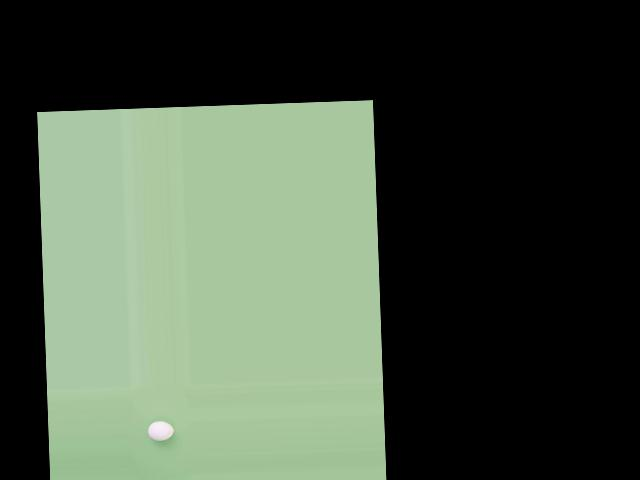egg: (147, 420, 173, 441)
